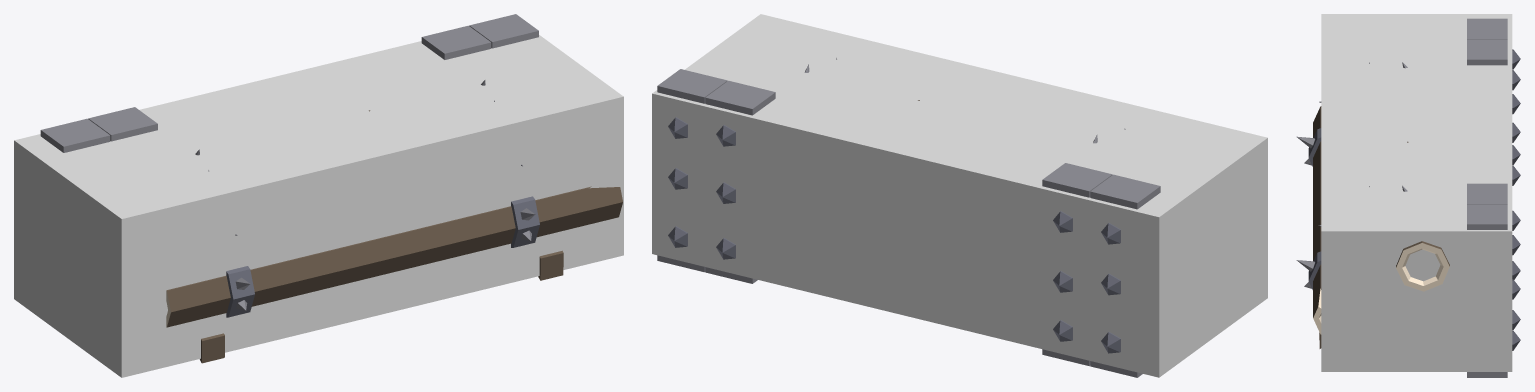
The model's file is wood_orc.glb.
3 views of the same model, side by side, from view 1: azimuth 30°, elevation 25°; view 2: azimuth 150°, elevation 25°; view 3: azimuth 270°, elevation 25° (orthographic). The views are drawn at different scales.
Visible parts, largest first — view 1: Cube, FIREWOODS; view 2: Cube, FIREWOODS; view 3: Cube, FIREWOODS.
Part boxes in pixels (bbox=[...]): Cube: bbox=[14, 35, 623, 377]; FIREWOODS: bbox=[40, 14, 622, 363]; Cube: bbox=[652, 14, 1267, 377]; FIREWOODS: bbox=[657, 58, 1160, 377]; Cube: bbox=[1321, 14, 1512, 371]; FIREWOODS: bbox=[1296, 18, 1520, 377].
Size of the model in its own units: 6.31 by 2.06 by 2.73.
1 material, 1 textured.
